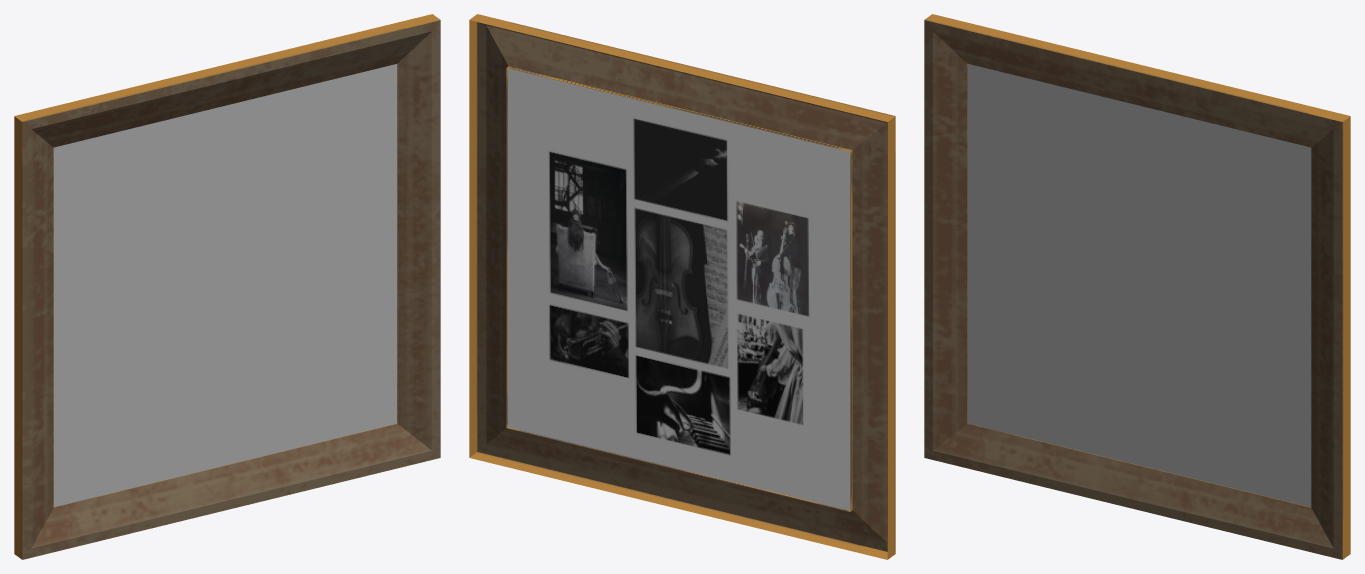
The model's file is CdC_Mading02.fbx.
The picture shows the model from 3 angles, left to right: view 1: azimuth 30°, elevation 25°; view 2: azimuth 150°, elevation 25°; view 3: azimuth 330°, elevation 25°; orthographic projection.
Visible parts, largest first — view 1: CdC_Mading02_GLASS, CdC_Mading02; view 2: CdC_Mading02_FOTO, CdC_Mading02; view 3: CdC_Mading02_GLASS, CdC_Mading02.
Boxes of the visible parts, box(x1,y1,x2,y2) form: CdC_Mading02_GLASS: box(53, 64, 397, 506); CdC_Mading02: box(14, 14, 440, 559); CdC_Mading02_FOTO: box(507, 68, 850, 510); CdC_Mading02: box(469, 14, 895, 559); CdC_Mading02_GLASS: box(967, 64, 1311, 506); CdC_Mading02: box(924, 14, 1350, 559).
Bounding box in the file's own units: 80 × 80 × 2.73.
